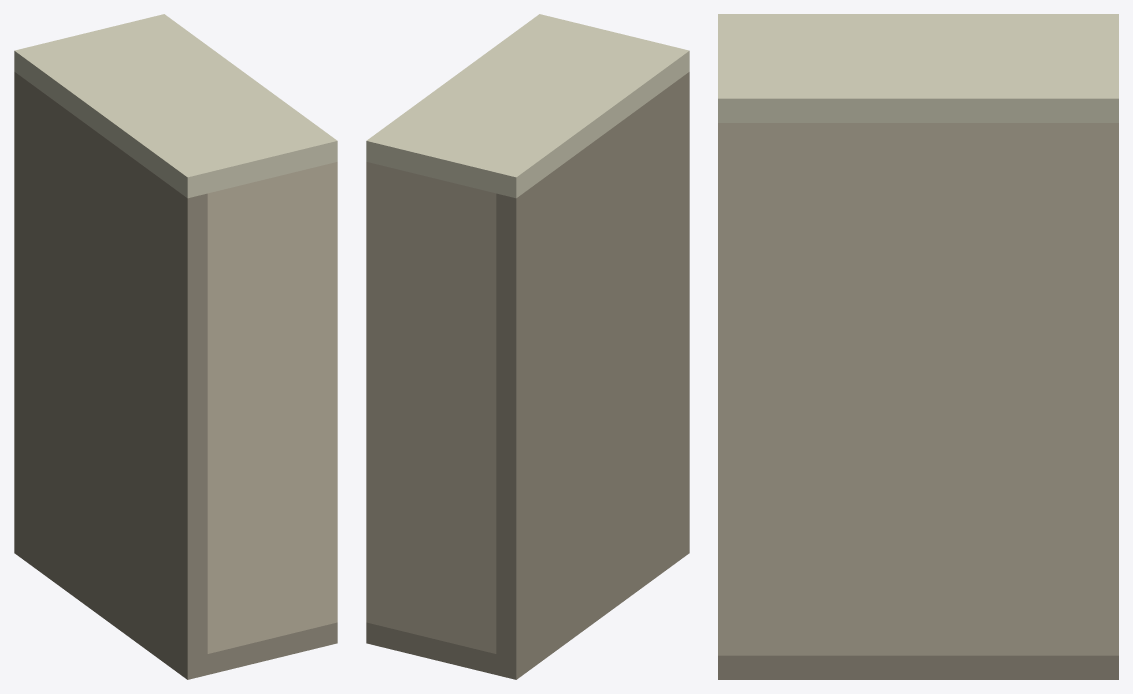
Rendered from estanteria_tilo_01.glb.
3 renders of one model, left to right at view 1: azimuth 30°, elevation 25°; view 2: azimuth 150°, elevation 25°; view 3: azimuth 270°, elevation 25°, orthographic. The views are drawn at different scales.
Parts seen in each view (by area): view 1: estanteria_tilo; view 2: estanteria_tilo; view 3: estanteria_tilo.
Part boxes in pixels (box(x1,y1,x2,y2)): estanteria_tilo: box(14, 14, 337, 679); estanteria_tilo: box(366, 14, 689, 679); estanteria_tilo: box(718, 14, 1118, 679).
Size of the model in its own units: 1 by 3.2 by 2.
